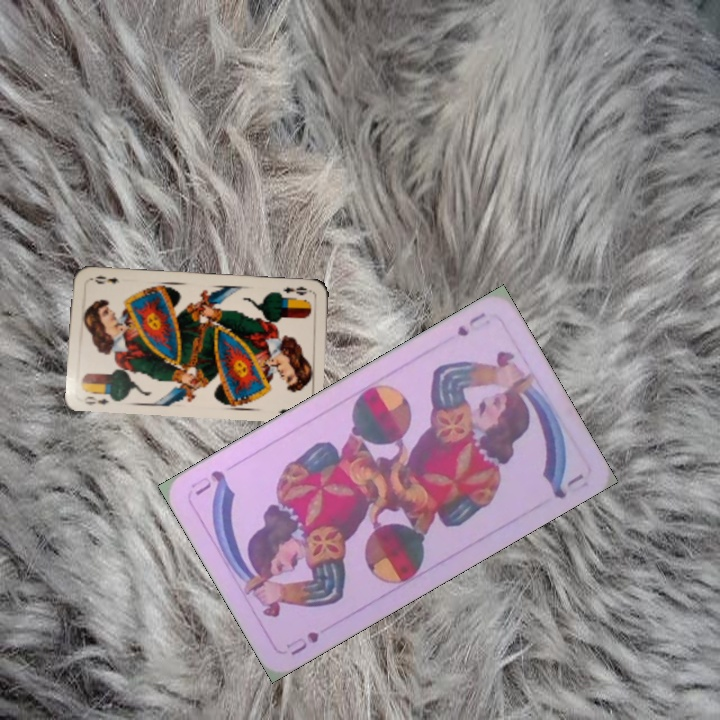EO: (80, 392, 111, 408), (279, 282, 309, 298)
SU: (281, 627, 322, 658), (453, 308, 488, 339)
